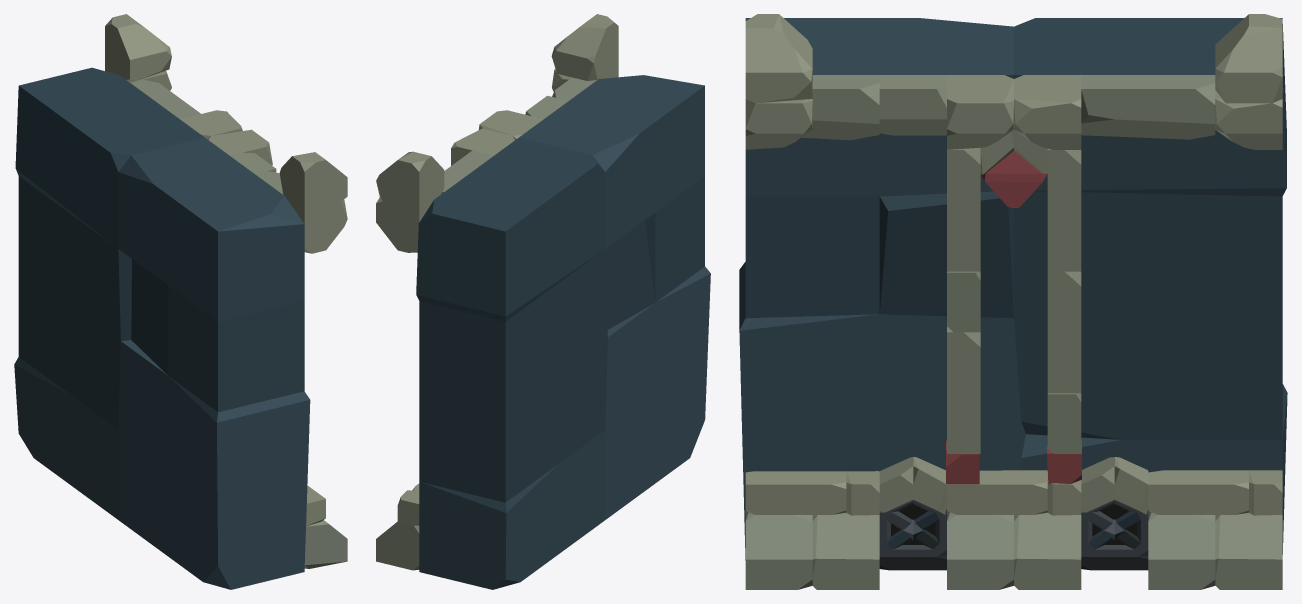
The model's file is wall_tile_01.fbx.
3 views of the same model, side by side, from view 1: azimuth 30°, elevation 25°; view 2: azimuth 150°, elevation 25°; view 3: azimuth 270°, elevation 25° (orthographic). The views are drawn at different scales.
Parts seen in each view (by area): view 1: wall_tile_01; view 2: wall_tile_01; view 3: wall_tile_01.
Part boxes in pixels (left/top/right/bottom): wall_tile_01: left=14, top=14, right=347, bottom=589; wall_tile_01: left=376, top=14, right=710, bottom=589; wall_tile_01: left=739, top=14, right=1287, bottom=589.
Size of the model in its own units: 155 by 450 by 408.
